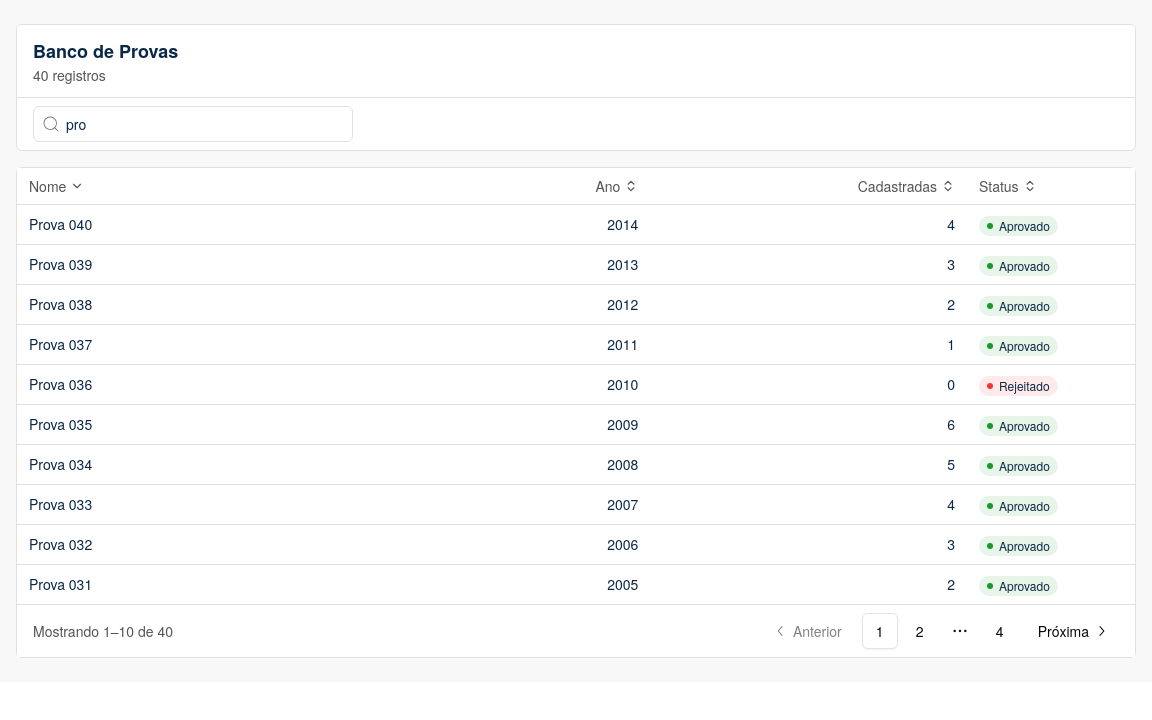
Test case: DashListTemplate — paginação › paginar não perde a ordenação nem o texto da busca
What coordinates should you click on to do the following:
click the link "2"
I would click on:
 (920, 631)
Its box is 916,621 -> 924,641.
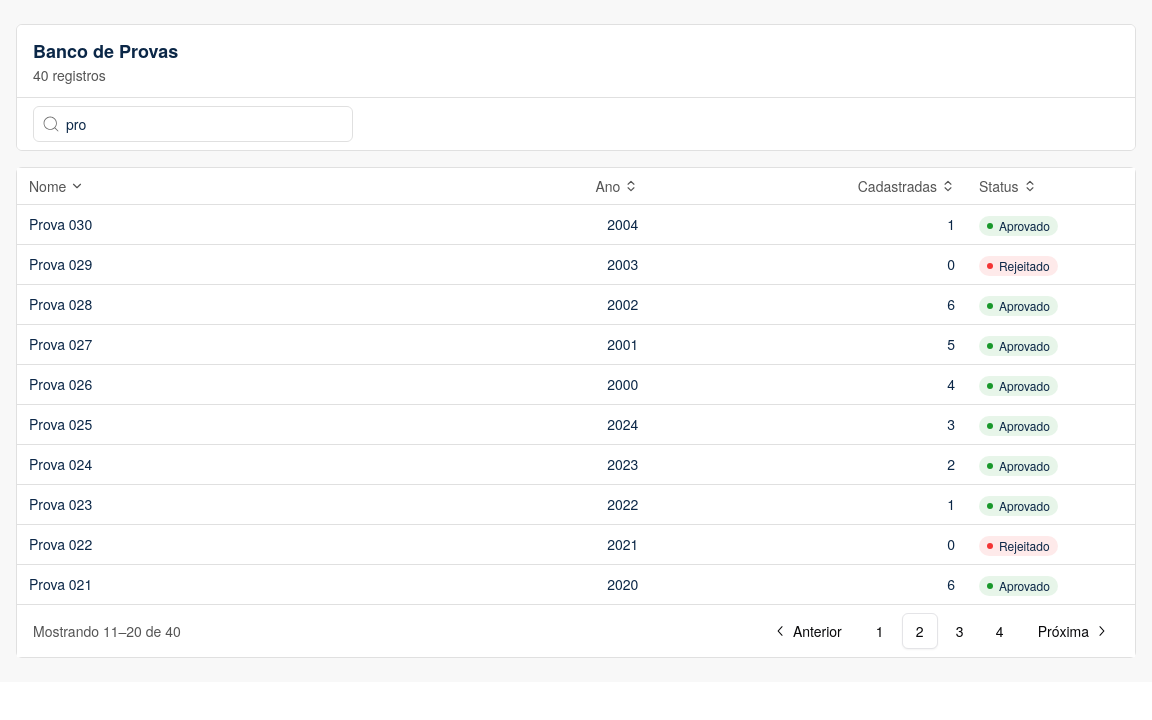
Expected: the search field holds "pro", 33,106 -> 353,142
Expected: the button "Prova 030" is shown, 29,214 -> 322,234
